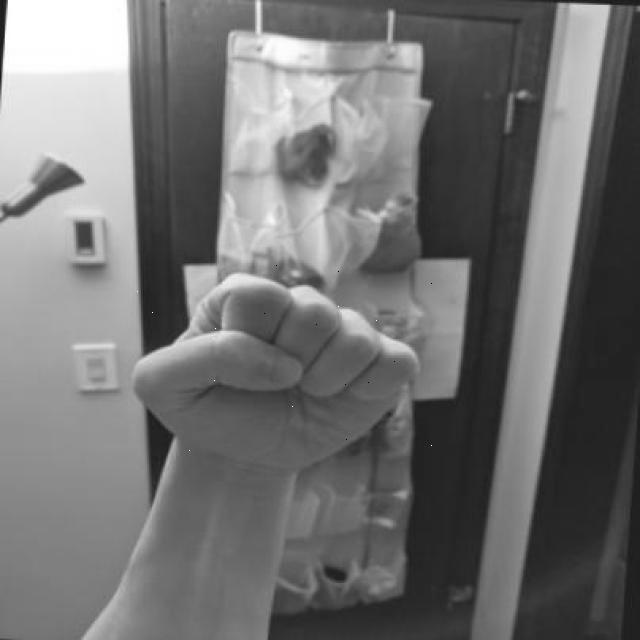S: (122, 262, 437, 487)
